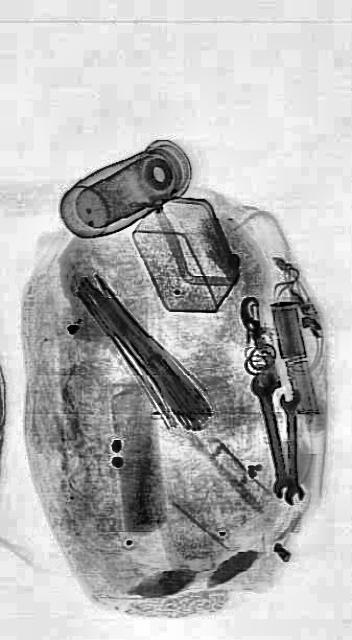Wrench: (248, 365, 296, 501), (279, 385, 303, 505)
